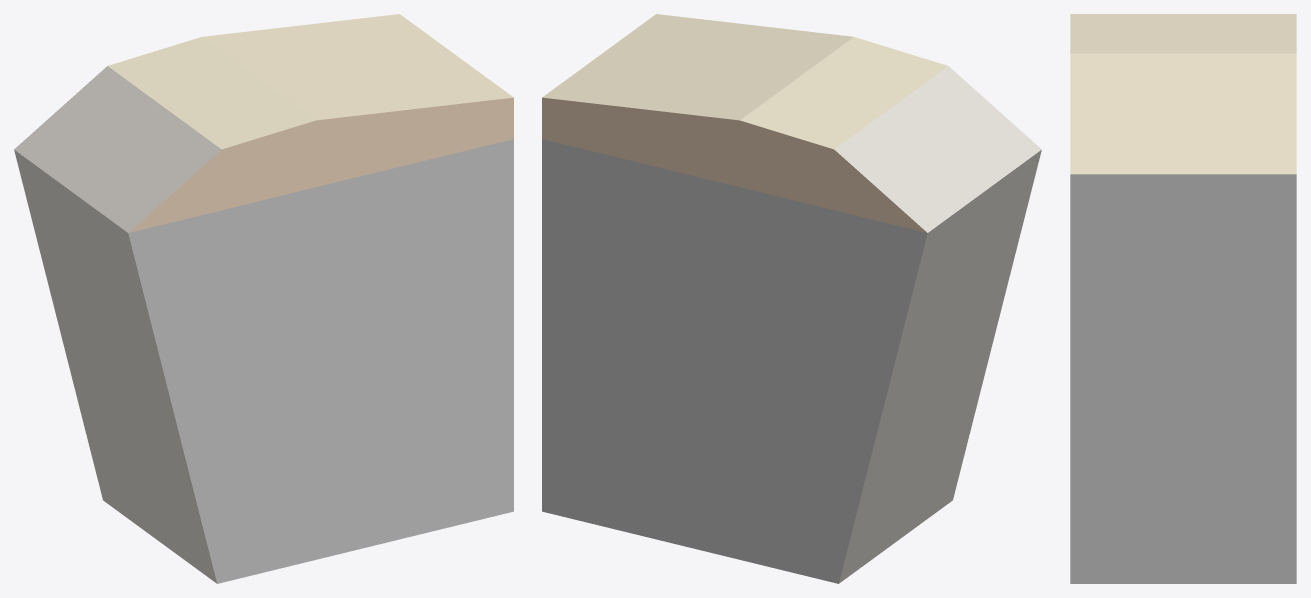
The model's file is Path_Bridge_Center_Top_1x2.glb.
3 views of the same model, side by side, from view 1: azimuth 30°, elevation 25°; view 2: azimuth 150°, elevation 25°; view 3: azimuth 270°, elevation 25° (orthographic).
Parts seen in each view (by area): view 1: Path_Bridge_Center_Top_1x2; view 2: Path_Bridge_Center_Top_1x2; view 3: Path_Bridge_Center_Top_1x2.
Part boxes in pixels (left/top/right/bottom): Path_Bridge_Center_Top_1x2: left=14, top=14, right=513, bottom=583; Path_Bridge_Center_Top_1x2: left=542, top=14, right=1041, bottom=583; Path_Bridge_Center_Top_1x2: left=1070, top=14, right=1296, bottom=583.
Bounding box in the file's own units: 195 × 212 × 100.
